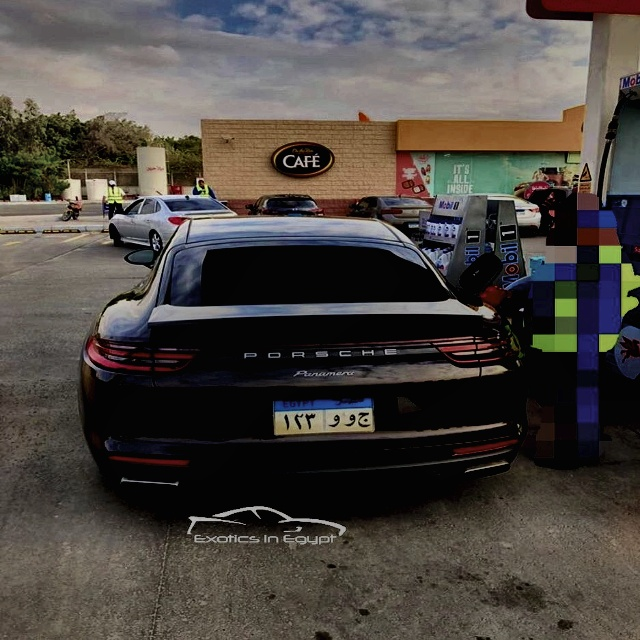License Plate: (270, 392, 377, 438)
